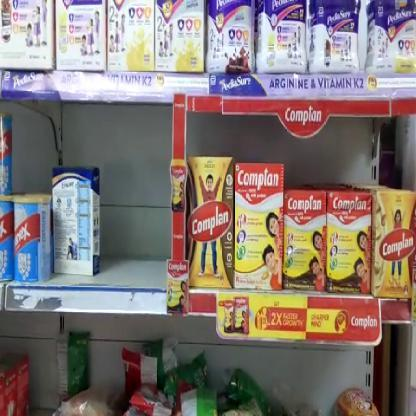Complan Kesar Badam: (234, 163, 282, 291), (372, 188, 414, 291)
Complan Royal Chocolate: (186, 157, 235, 290), (326, 189, 368, 290), (285, 194, 324, 290)
